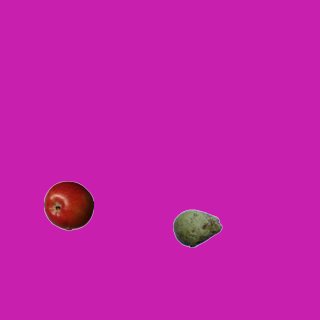Apple Braeburn: (43, 180, 93, 230)
Pear Stone: (172, 203, 222, 253)
